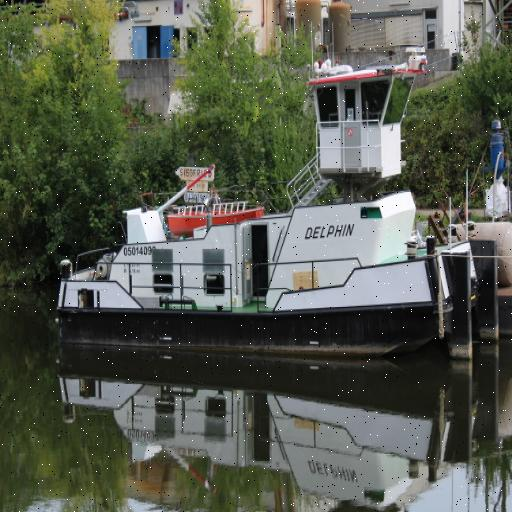tugboat: (54, 43, 503, 373)
